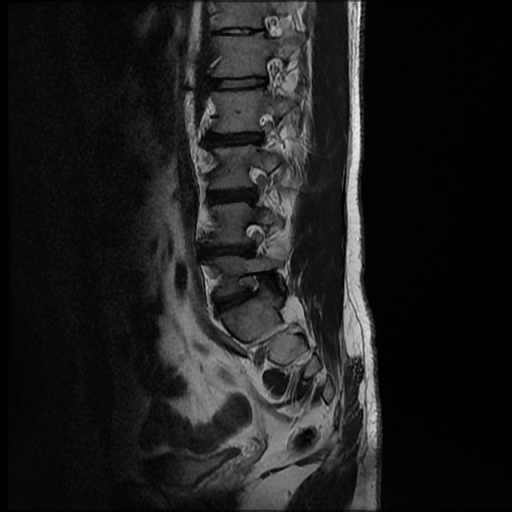RFS0: (239, 154, 274, 214), (249, 48, 287, 99), (234, 214, 272, 262), (245, 107, 279, 152)
RFS3: (230, 261, 270, 310)
